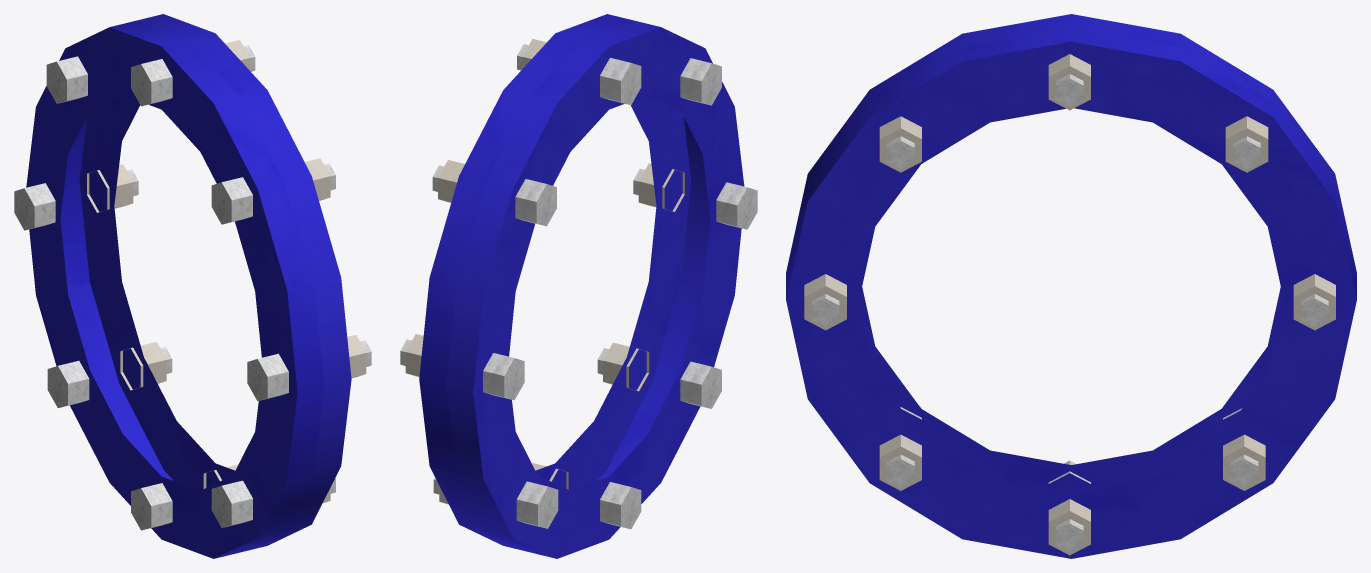
Rendered from BoltFlangeSet sm.fbx.
3 renders of one model, left to right at view 1: azimuth 30°, elevation 25°; view 2: azimuth 150°, elevation 25°; view 3: azimuth 270°, elevation 25°, orthographic. The views are drawn at different scales.
Parts seen in each view (by area): view 1: BoltsFlanged; view 2: BoltsFlanged; view 3: BoltsFlanged.
Part boxes in pixels (x1=…): BoltsFlanged: x1=14, y1=14, x2=371, y2=558; BoltsFlanged: x1=400, y1=14, x2=757, y2=558; BoltsFlanged: x1=786, y1=14, x2=1356, y2=558.
Size of the model in its own units: 0.0982 by 0.4296 by 0.4296.
